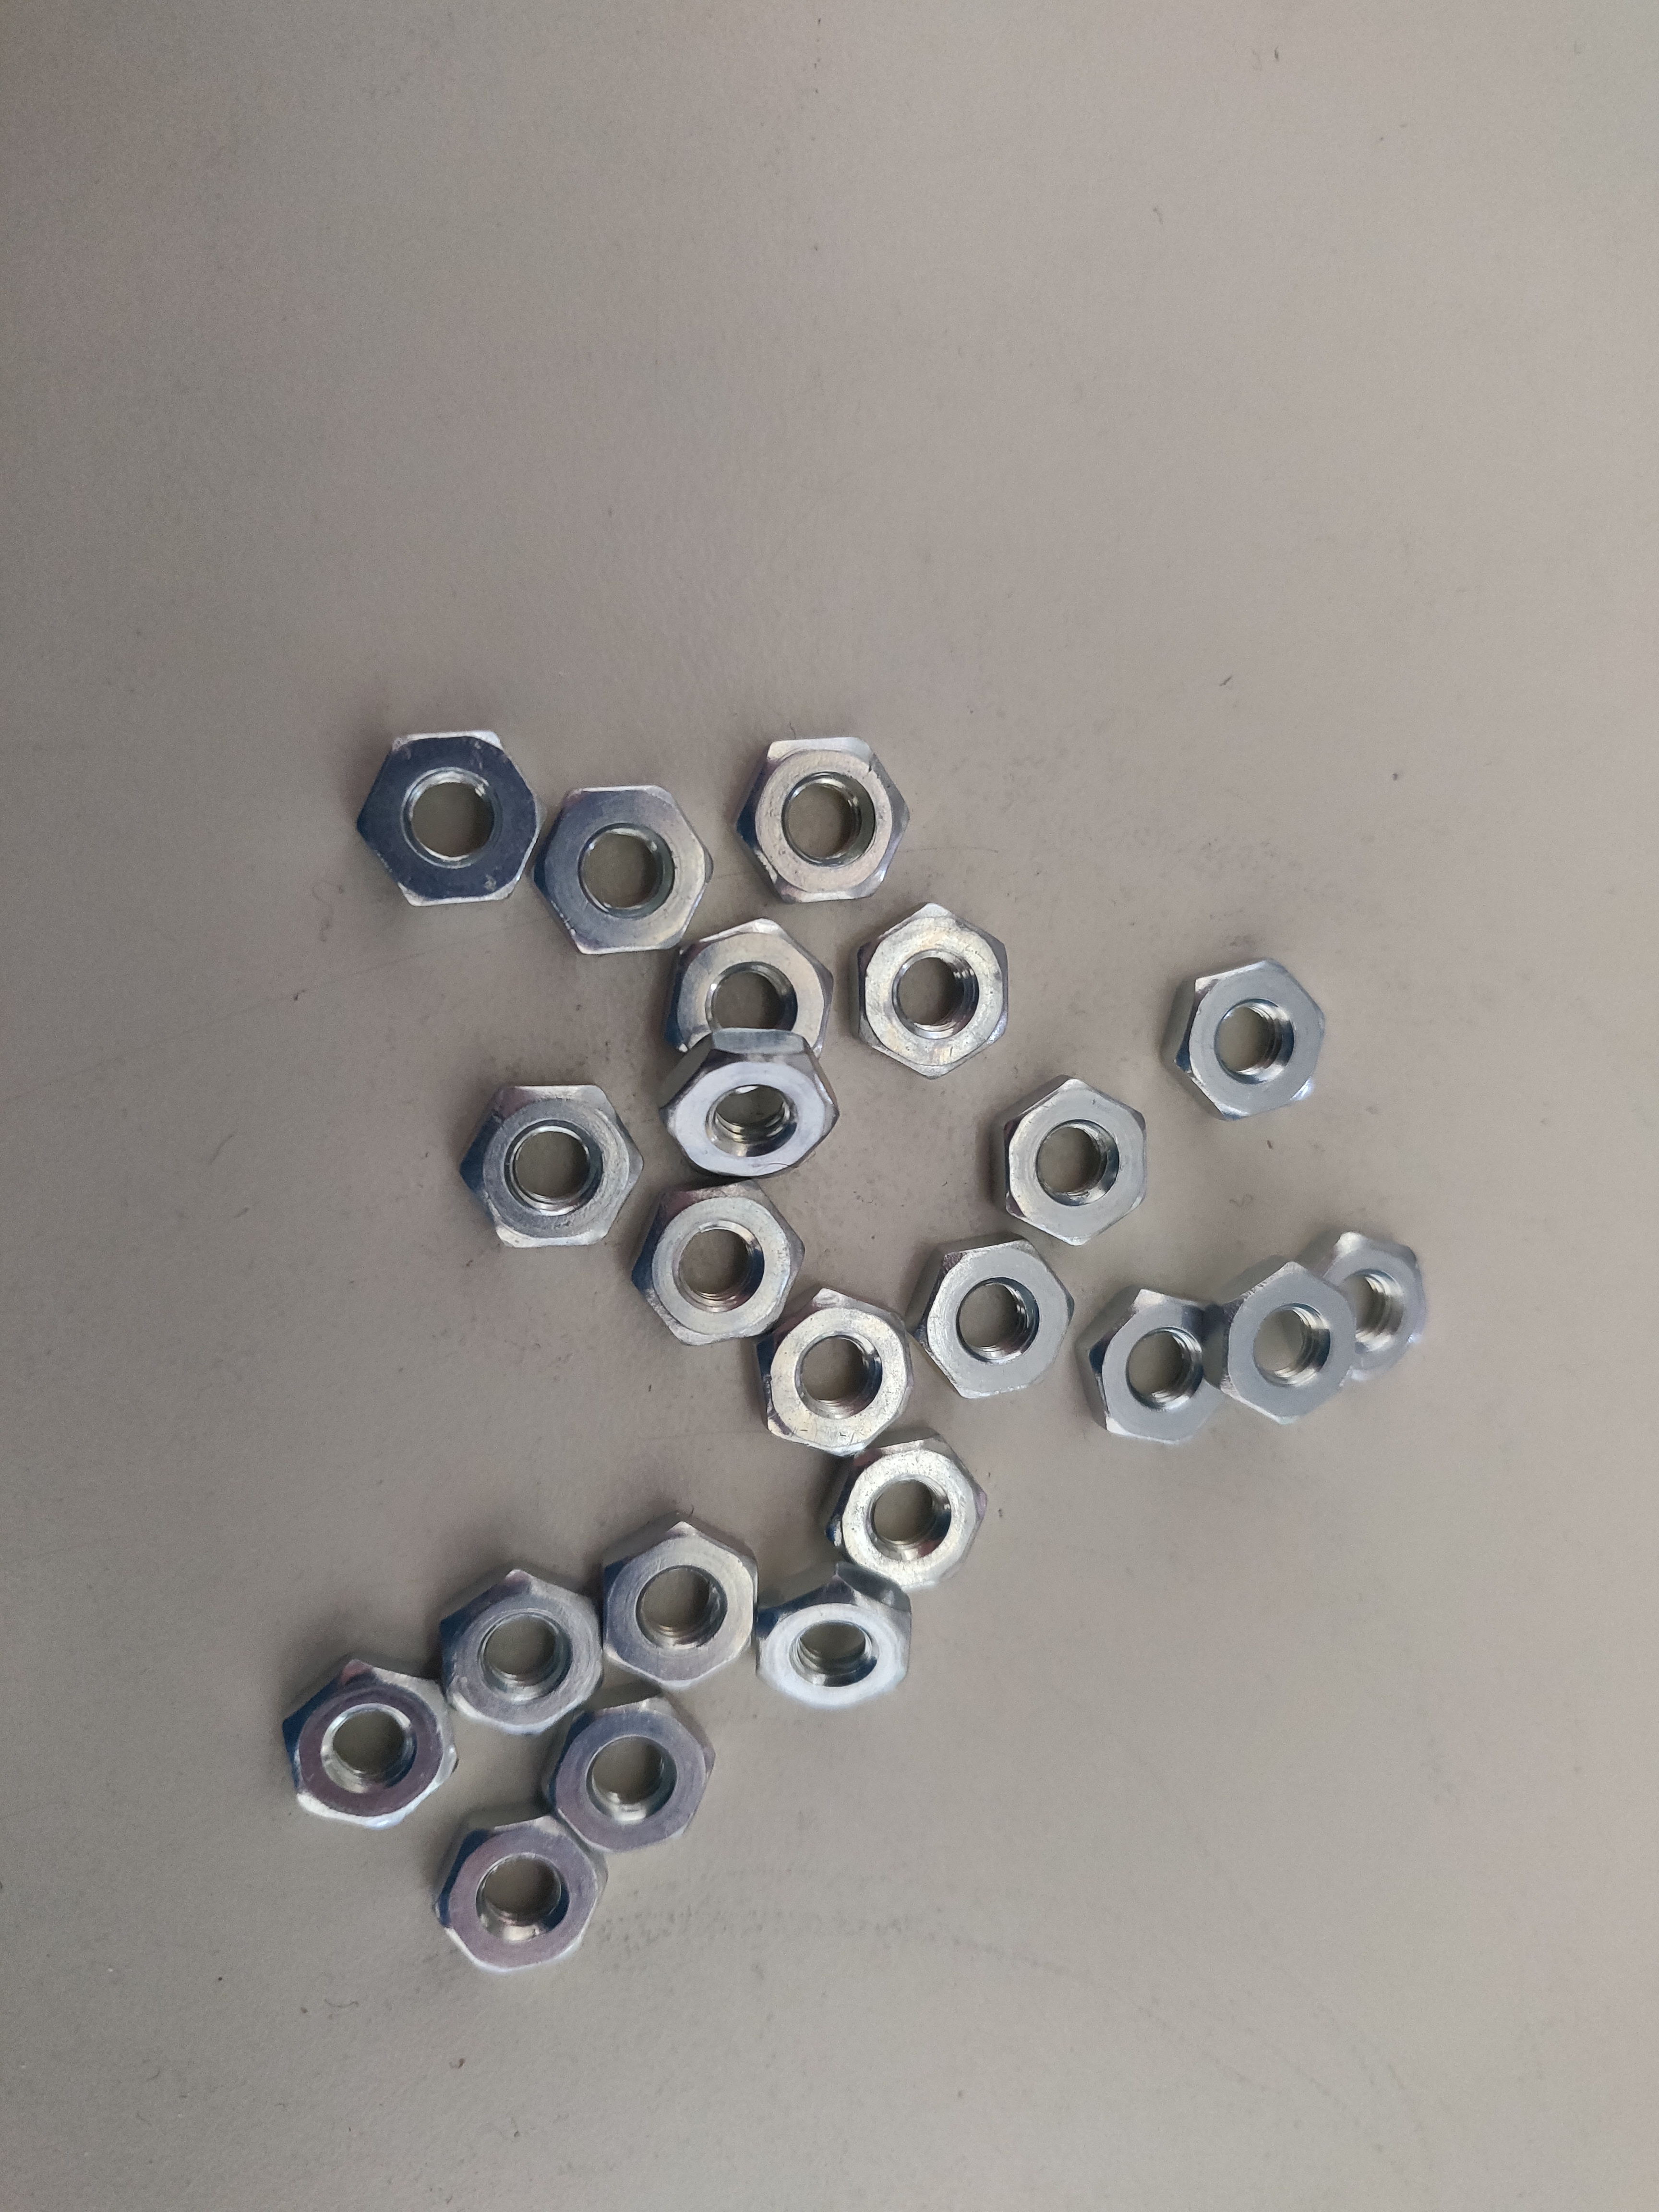nut: (730, 725, 915, 911), (355, 728, 538, 907), (277, 1651, 451, 1825), (596, 1514, 762, 1695), (455, 1085, 638, 1249), (836, 911, 1007, 1082), (432, 1801, 599, 1973), (436, 1564, 599, 1733), (549, 787, 716, 951), (666, 1029, 836, 1188), (997, 1078, 1152, 1252), (1169, 961, 1326, 1130), (634, 1191, 795, 1352), (554, 1693, 713, 1853), (767, 1280, 911, 1453), (1213, 1256, 1358, 1425), (922, 1240, 1066, 1400), (829, 1435, 979, 1588), (1082, 1284, 1220, 1446), (758, 1568, 908, 1712), (681, 916, 819, 1064), (1326, 1231, 1425, 1383)
